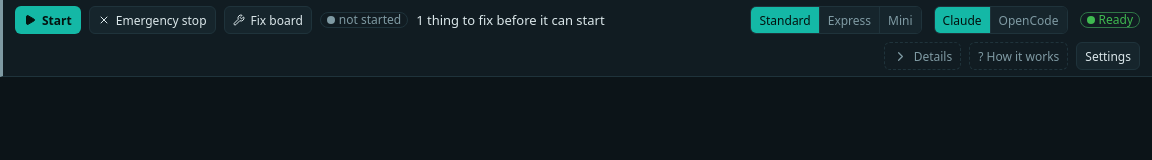
the details drawer › closes again
Click the button with test id "ap-expand" at (922, 56), box [884,42,961,70]
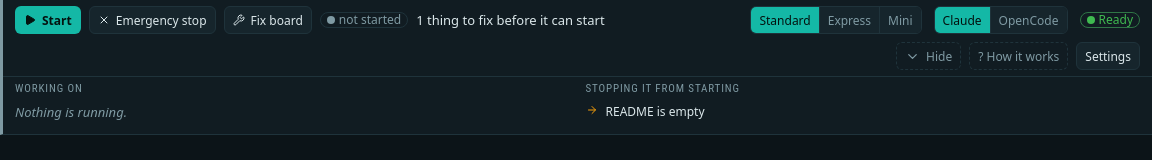
Now the element with test id "ap-drawer" is shown, box [3,76,1151,134]
Click the button with test id "ap-expand" at (929, 56), box [896,42,961,70]
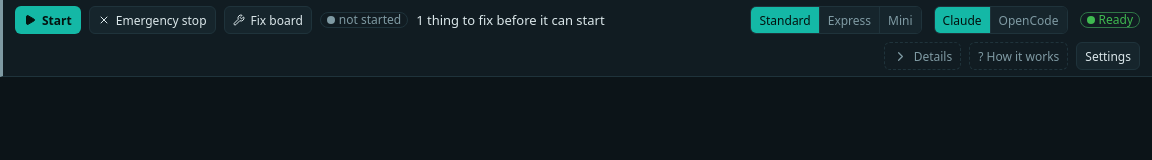
Now the element with test id "ap-drawer" is gone
